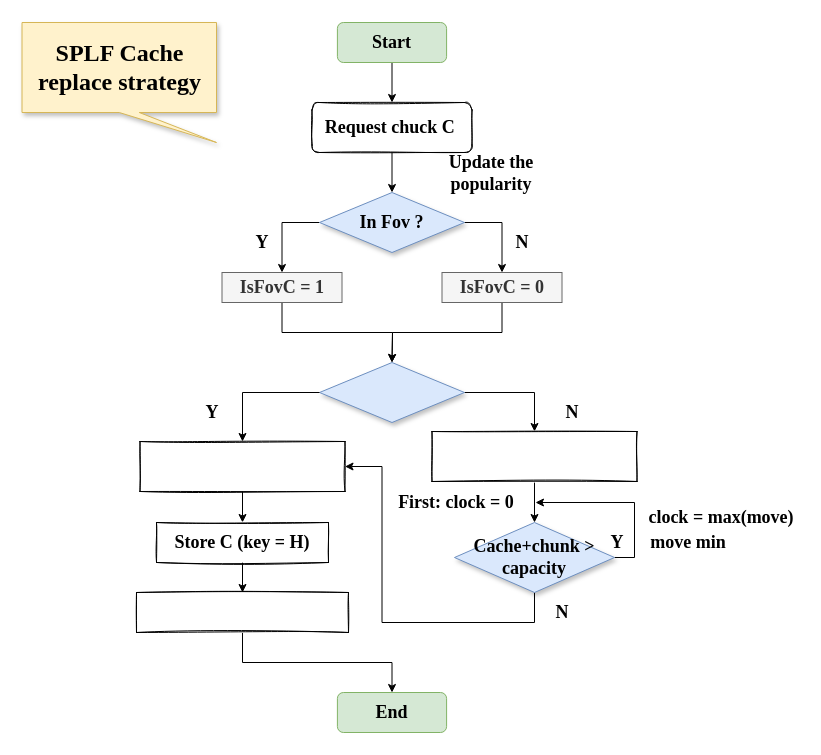
Image size: 821x755. Some labels were removed from this diagram. The centre of each missing label's shape, as x and y in pixels:
"Caculate H(cache value)" belongs at pixel 242 466.
"Download chunk" belongs at pixel 534 456.
"Get chunk and sent" belongs at pixel 242 612.
"In Cache ?" belongs at pixel 392 394.
